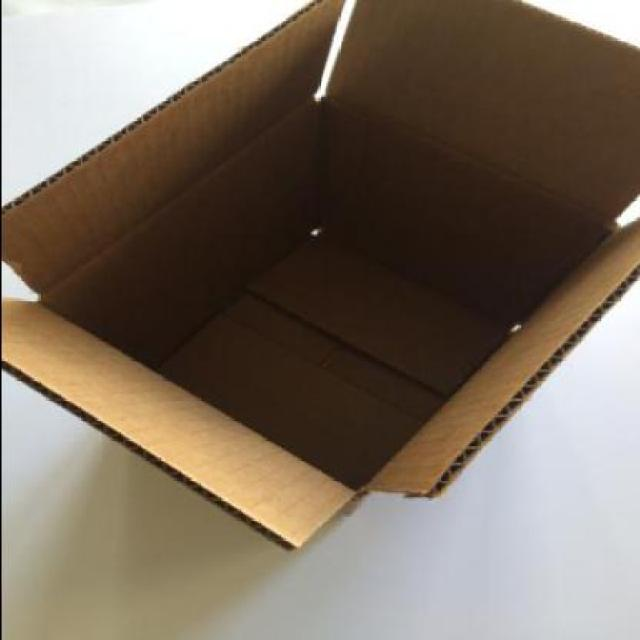cardboard: (1, 0, 638, 548)
